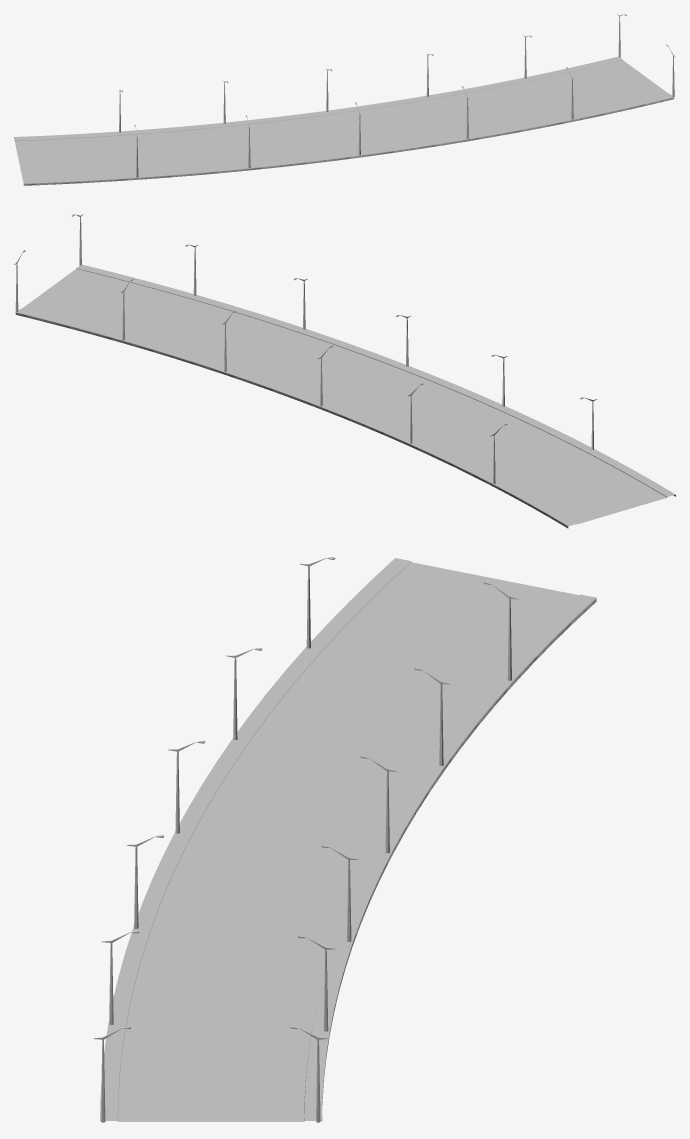
Rendered from Big_Road_25.FBX.
3 views of the same model, one above another, from view 1: azimuth 30°, elevation 25°; view 2: azimuth 150°, elevation 25°; view 3: azimuth 270°, elevation 25° (orthographic). The views are drawn at different scales.
Parts seen in each view (by area): view 1: Big_Road_25, city_light004; view 2: Big_Road_25, city_light004; view 3: Big_Road_25, city_light004.
Boxes of the visible parts, x1=… form: Big_Road_25: x1=14, y1=56, x2=674, y2=185; city_light004: x1=119, y1=14, x2=675, y2=177; Big_Road_25: x1=15, y1=264, x2=675, y2=528; city_light004: x1=14, y1=214, x2=597, y2=483; Big_Road_25: x1=100, y1=558, x2=596, y2=1121; city_light004: x1=93, y1=557, x2=518, y2=1122.
Bounding box in the file's own units: 13619 × 1104 × 5137.
